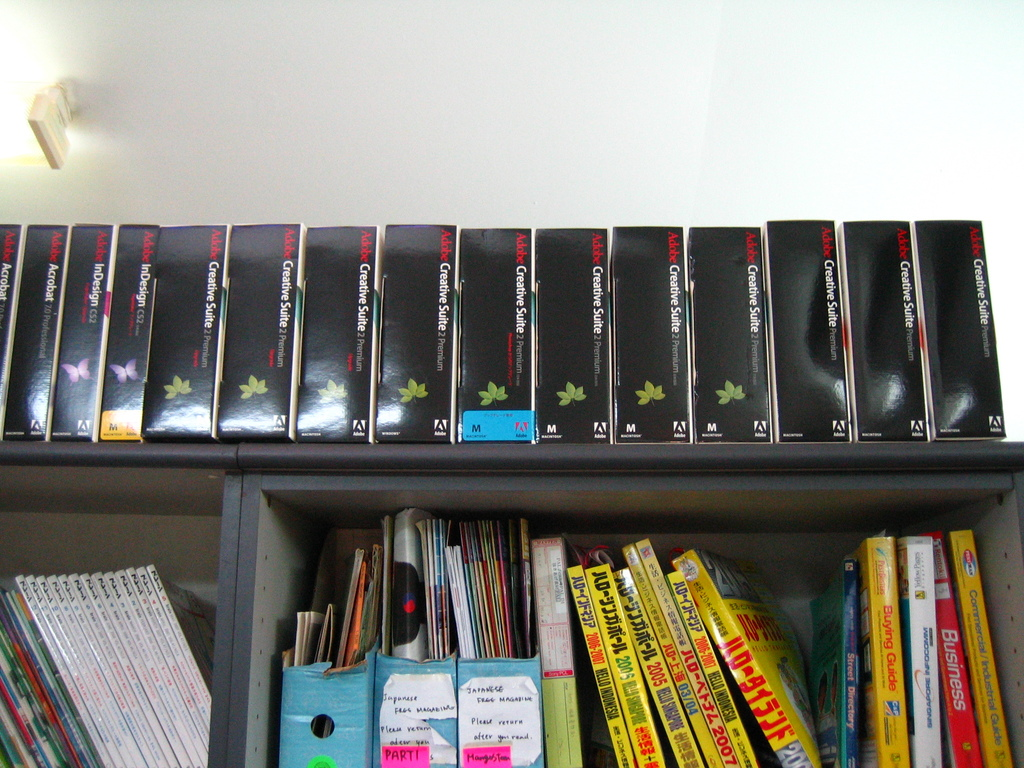Book: (31, 205, 1024, 768)
